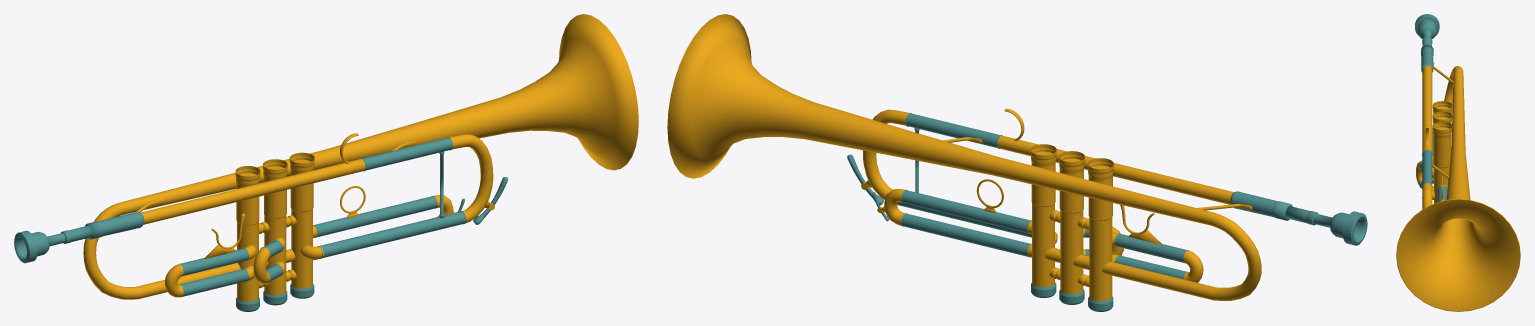
The model's file is trumpetsanspiston.glb.
3 views of the same model, side by side, from view 1: azimuth 30°, elevation 25°; view 2: azimuth 150°, elevation 25°; view 3: azimuth 270°, elevation 25° (orthographic). The views are drawn at different scales.
Visible parts, largest first — view 1: Cylinder, Cylinder.001, Cylinder.005, Cylinder.006, Cylinder.014, Cylinder.003, Cylinder.034, Cylinder.002, Cylinder.030, Cylinder.013; view 2: Cylinder, Cylinder.001, Cylinder.006, Cylinder.005, Cylinder.014, Cylinder.034, Cylinder.002, Cylinder.030, Cylinder.013; view 3: Cylinder, Cylinder.001, Cylinder.014, Cylinder.002, Cylinder.034, Cylinder.030, Cylinder.003, Cylinder.037, Cylinder.006, Cylinder.026, Cylinder.031.
Boxes of the visible parts, left/top/right/bottom form: Cylinder: left=83, top=14, right=638, bottom=299; Cylinder.001: left=236, top=156, right=313, bottom=301; Cylinder.005: left=164, top=245, right=256, bottom=297; Cylinder.006: left=313, top=195, right=453, bottom=260; Cylinder.014: left=236, top=170, right=313, bottom=224; Cylinder.003: left=253, top=237, right=285, bottom=283; Cylinder.034: left=85, top=211, right=142, bottom=239; Cylinder.002: left=19, top=230, right=65, bottom=262; Cylinder.030: left=235, top=159, right=287, bottom=186; Cylinder.013: left=236, top=287, right=314, bottom=310; Cylinder: left=667, top=14, right=1261, bottom=300; Cylinder.001: left=1031, top=148, right=1113, bottom=301; Cylinder.006: left=884, top=189, right=1032, bottom=257; Cylinder.005: left=1112, top=232, right=1203, bottom=282; Cylinder.014: left=1031, top=163, right=1112, bottom=220; Cylinder.034: left=1231, top=191, right=1292, bottom=220; Cylinder.002: left=1313, top=211, right=1361, bottom=245; Cylinder.030: left=1058, top=151, right=1113, bottom=180; Cylinder.013: left=1031, top=286, right=1113, bottom=310; Cylinder: left=1396, top=66, right=1520, bottom=311; Cylinder.001: left=1433, top=104, right=1451, bottom=203; Cylinder.014: left=1433, top=135, right=1451, bottom=167; Cylinder.002: left=1415, top=14, right=1439, bottom=38; Cylinder.034: left=1421, top=44, right=1433, bottom=67; Cylinder.030: left=1432, top=101, right=1452, bottom=123; Cylinder.003: left=1416, top=160, right=1433, bottom=189; Cylinder.037: left=1415, top=17, right=1439, bottom=35; Cylinder.006: left=1437, top=184, right=1447, bottom=202; Cylinder.026: left=1432, top=121, right=1452, bottom=132; Cylinder.031: left=1433, top=105, right=1451, bottom=123.
Size of the model in its own units: 8.93 by 2.74 by 2.07.
